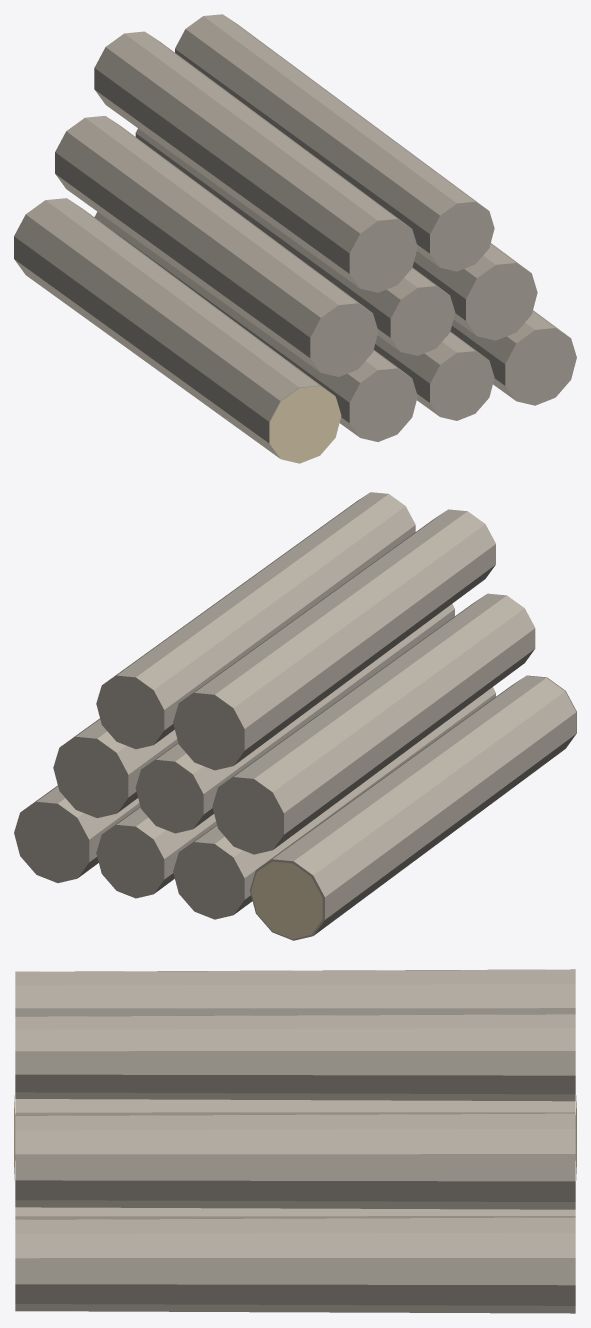
The model's file is temperate-forest-ecology-sawn-log-stack-large-94f4f113__3829.glb.
The picture shows the model from 3 angles, top to bottom: view 1: azimuth 30°, elevation 25°; view 2: azimuth 150°, elevation 25°; view 3: azimuth 270°, elevation 25°; orthographic projection. The views are drawn at different scales.
Visible parts, largest first — view 1: sawn-log-stack-large; view 2: sawn-log-stack-large; view 3: sawn-log-stack-large.
Boxes of the visible parts, <box> form: sawn-log-stack-large: <box>14,14,576,463</box>; sawn-log-stack-large: <box>14,492,576,940</box>; sawn-log-stack-large: <box>14,969,576,1313</box>.
Size of the model in its own units: 3.4 by 2.37 by 4.82.
